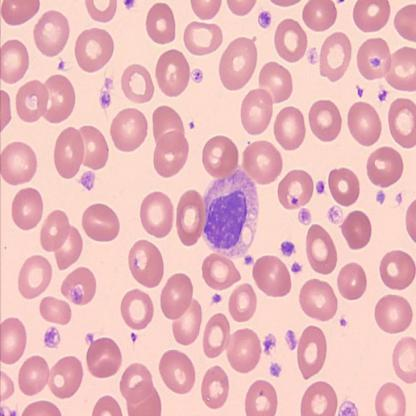Myelocyte: (200, 171, 259, 256)
